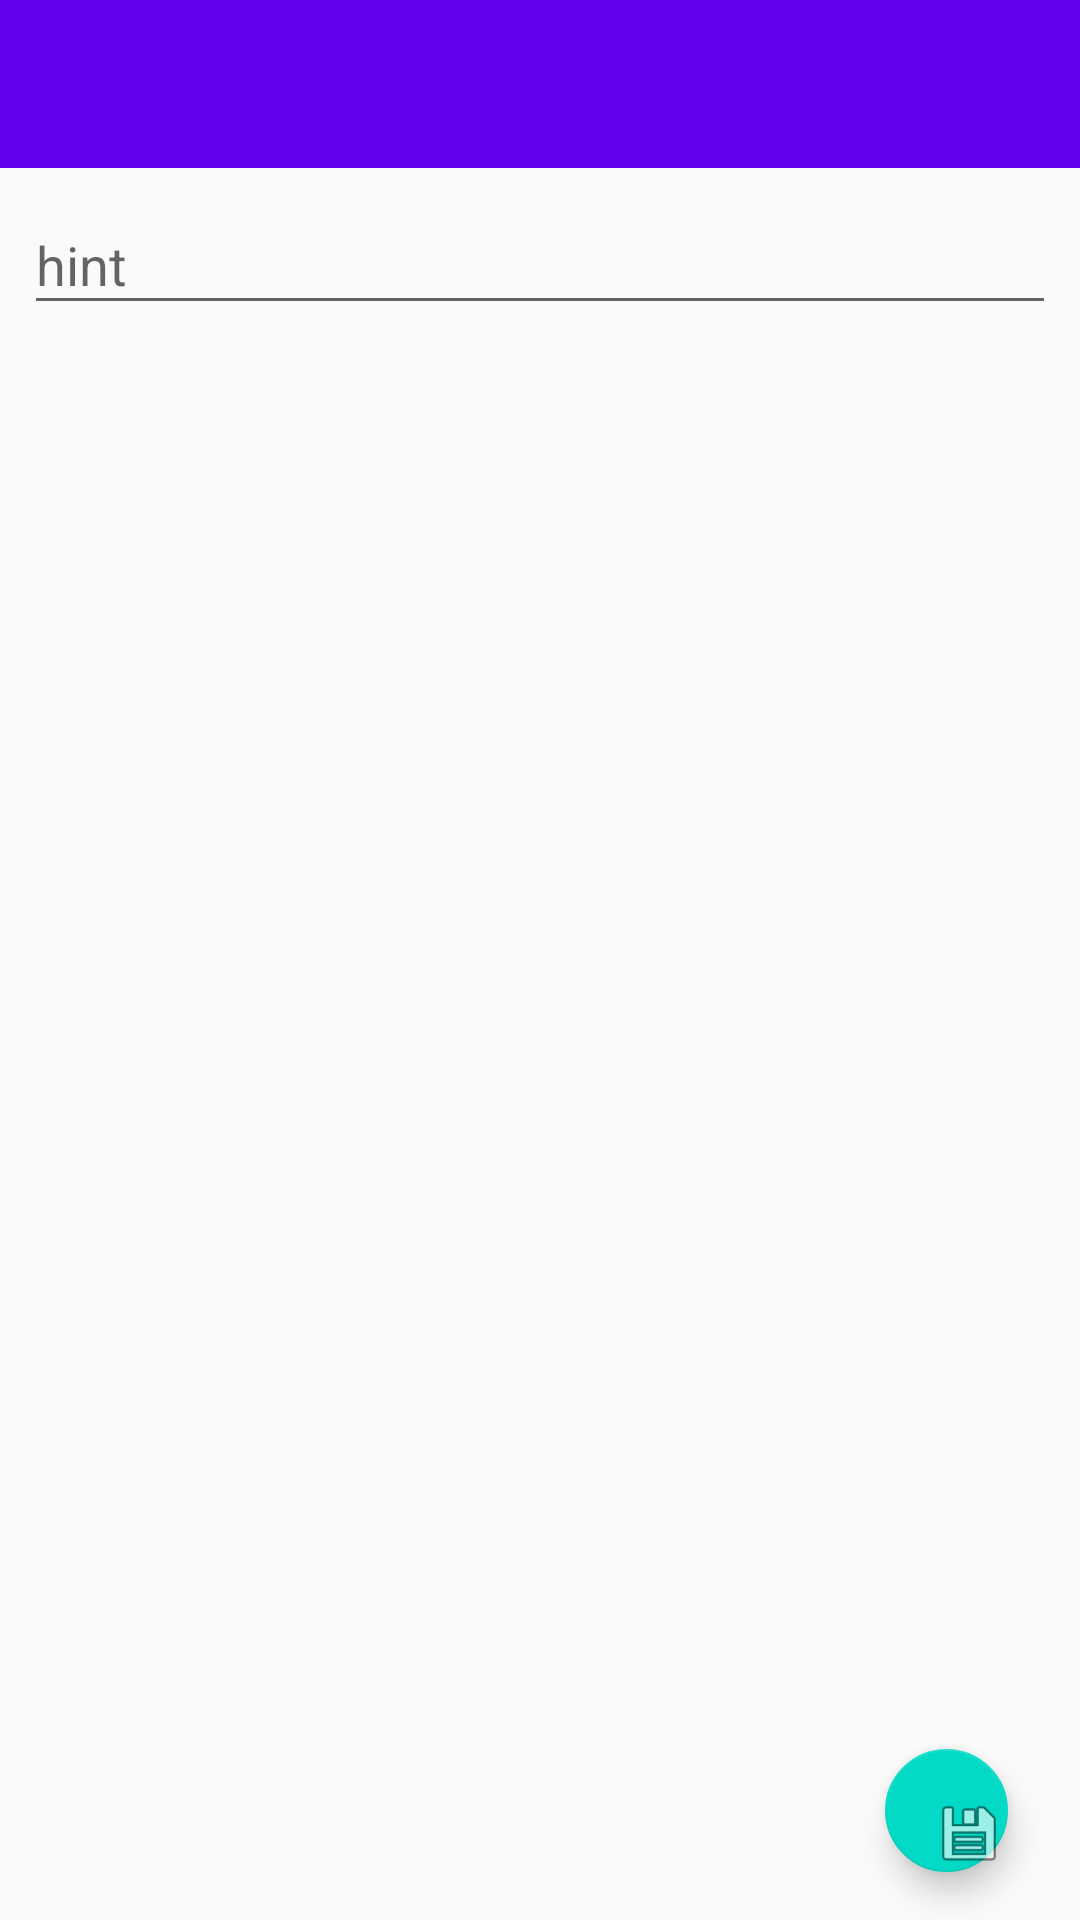

Icons on this 1080 × 1920 Android screen, each with its box as detection(x1, y1, x2, y2):
save: detection(885, 1749, 1008, 1872)
